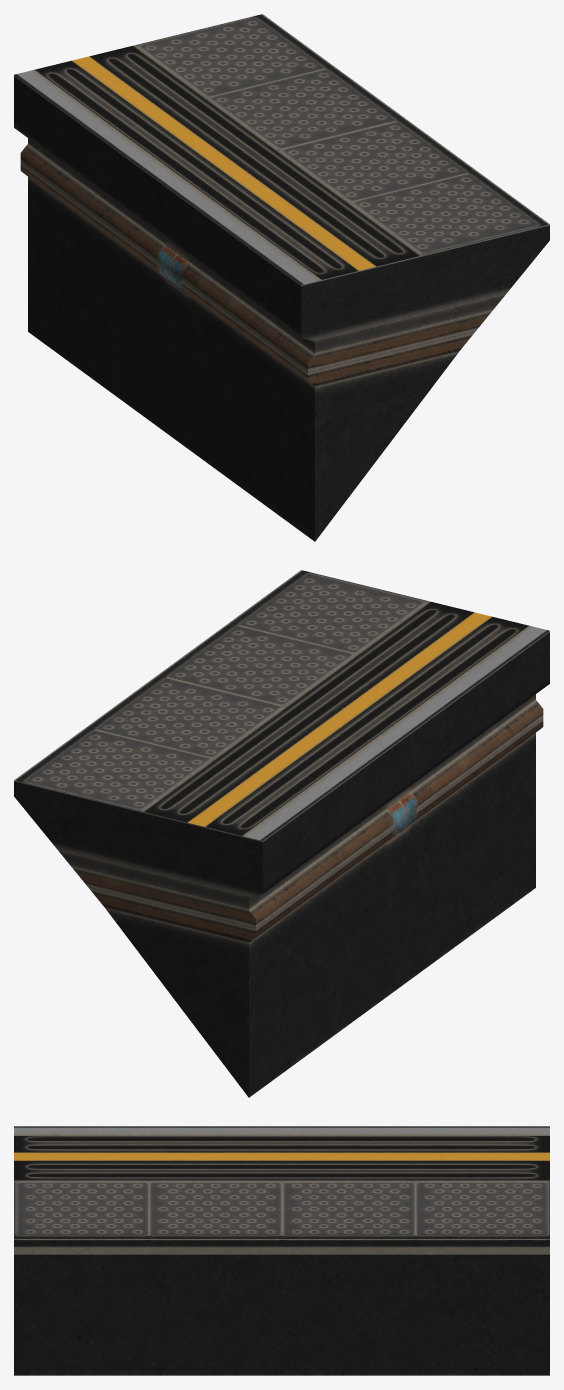
The model's file is SM_FloorBorder.FBX.
3 views of the same model, one above another, from view 1: azimuth 30°, elevation 25°; view 2: azimuth 150°, elevation 25°; view 3: azimuth 270°, elevation 25° (orthographic). The views are drawn at different scales.
Visible parts, largest first — view 1: SM_FloorBorder; view 2: SM_FloorBorder; view 3: SM_FloorBorder.
Boxes of the visible parts, box(x1,y1,x2,y2) form: SM_FloorBorder: box(14, 14, 549, 541); SM_FloorBorder: box(14, 570, 549, 1097); SM_FloorBorder: box(14, 1126, 549, 1375).
Bounding box in the file's own units: 200 × 400 × 200.
